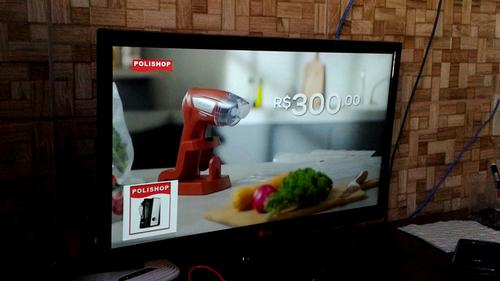Polishop #1: (122, 178, 178, 241)
